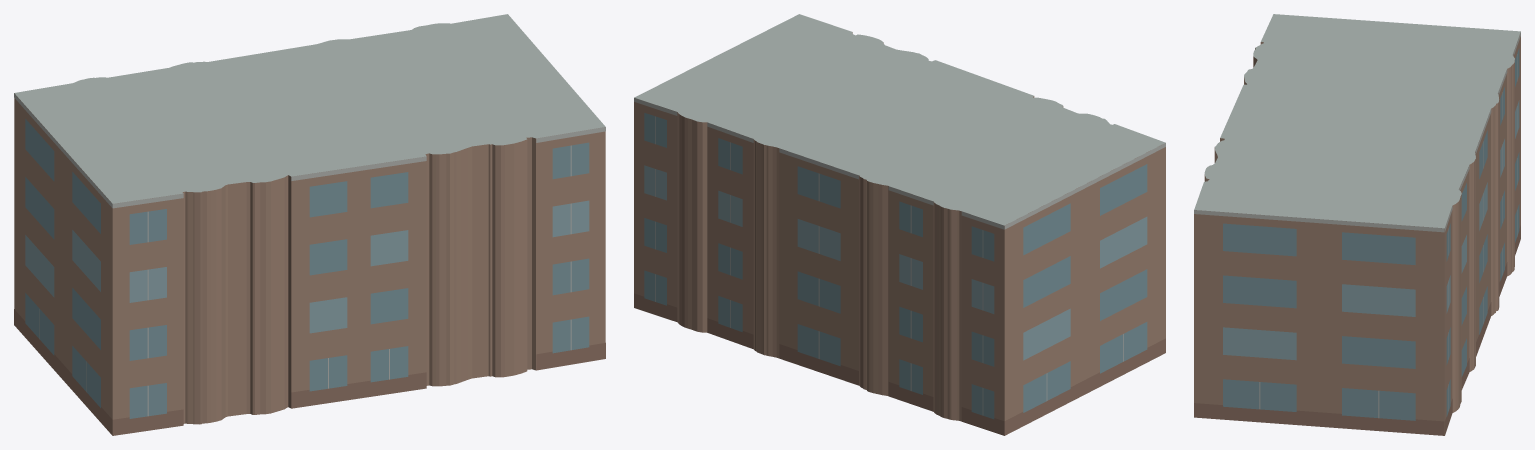
Rendered from survey-upis-32632261.glb.
3 views of the same model, side by side, from view 1: azimuth 30°, elevation 25°; view 2: azimuth 150°, elevation 25°; view 3: azimuth 270°, elevation 25° (orthographic). The views are drawn at different scales.
Parts seen in each view (by area): view 1: survey-upis-32632261.tmp; view 2: survey-upis-32632261.tmp; view 3: survey-upis-32632261.tmp.
Part boxes in pixels (x1,y1,x2,y2): survey-upis-32632261.tmp: [14, 14, 605, 435]; survey-upis-32632261.tmp: [634, 14, 1165, 435]; survey-upis-32632261.tmp: [1194, 14, 1520, 435].
Size of the model in its own units: 27.47 by 12.4 by 17.7.
